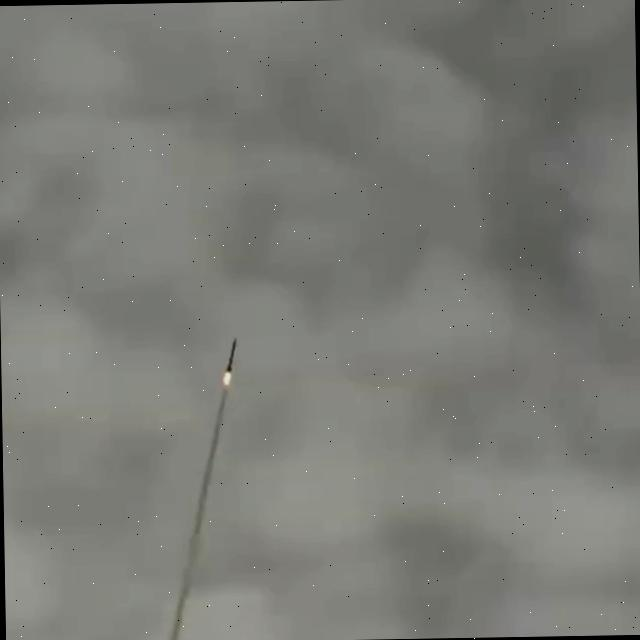smoke_trail_with_rocket: (164, 338, 237, 640)
